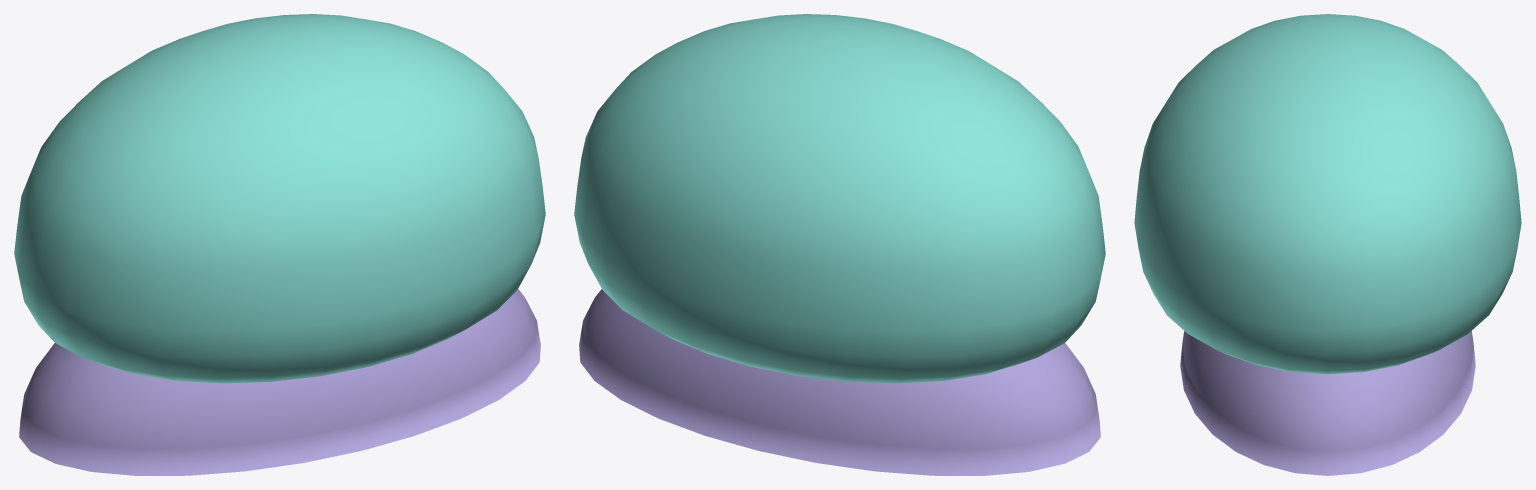
Rendered from head_blob.glb.
3 views of the same model, side by side, from view 1: azimuth 30°, elevation 25°; view 2: azimuth 150°, elevation 25°; view 3: azimuth 270°, elevation 25° (orthographic). The views are drawn at different scales.
Visible parts, largest first — view 1: BlobHead, BlobShoulders; view 2: BlobHead, BlobShoulders; view 3: BlobHead, BlobShoulders.
Part boxes in pixels (x1=…): BlobHead: x1=14, y1=14, x2=545, y2=383; BlobShoulders: x1=19, y1=289, x2=540, y2=475; BlobHead: x1=574, y1=14, x2=1105, y2=383; BlobShoulders: x1=579, y1=289, x2=1100, y2=475; BlobHead: x1=1134, y1=14, x2=1521, y2=374; BlobShoulders: x1=1180, y1=331, x2=1475, y2=475.
Size of the model in its own units: 0.6 by 0.404 by 0.4454.
